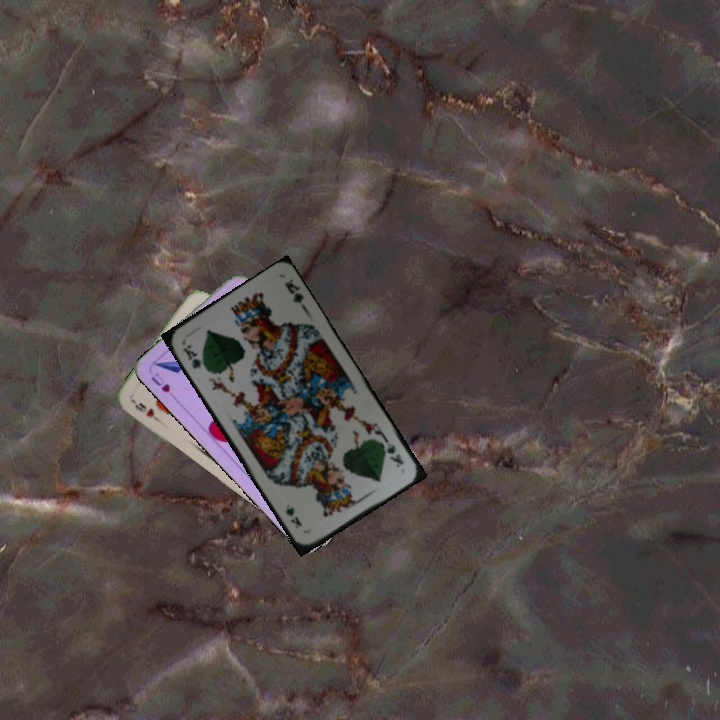GK: (179, 340, 210, 372), (380, 434, 407, 470)
H9: (128, 396, 164, 425)
HU: (147, 369, 173, 395)
